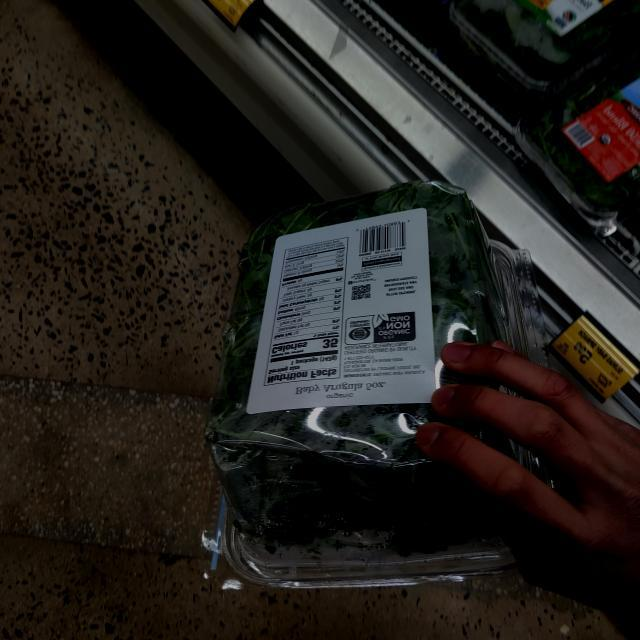Spinach: (183, 160, 529, 596)
